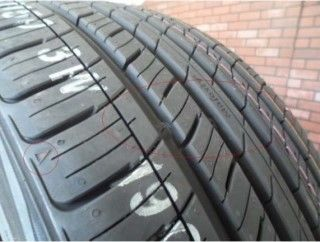new_condition: (24, 4, 320, 237)
